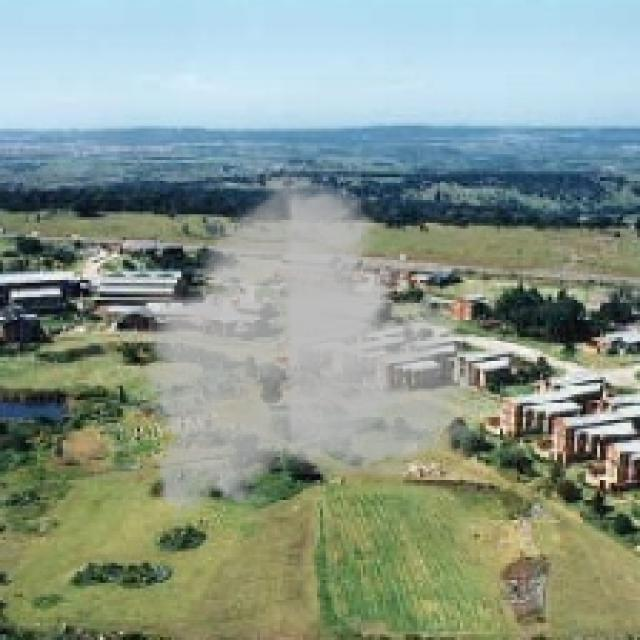Smoke: (132, 159, 492, 532)
